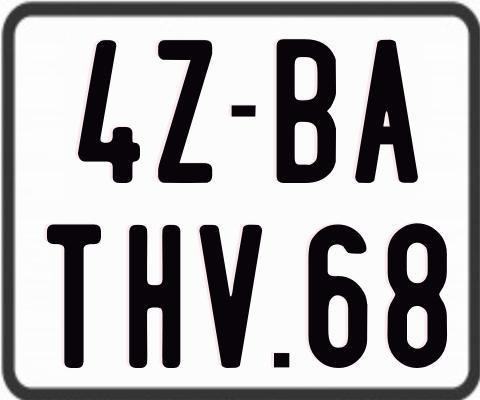4: (78, 38, 146, 184)
6: (305, 222, 369, 366)
8: (387, 220, 449, 366)
A: (354, 37, 422, 184)
B: (277, 36, 338, 180)
H: (128, 222, 181, 366)
T: (45, 222, 104, 369)
V: (199, 222, 266, 366)
Z: (155, 38, 212, 181)
